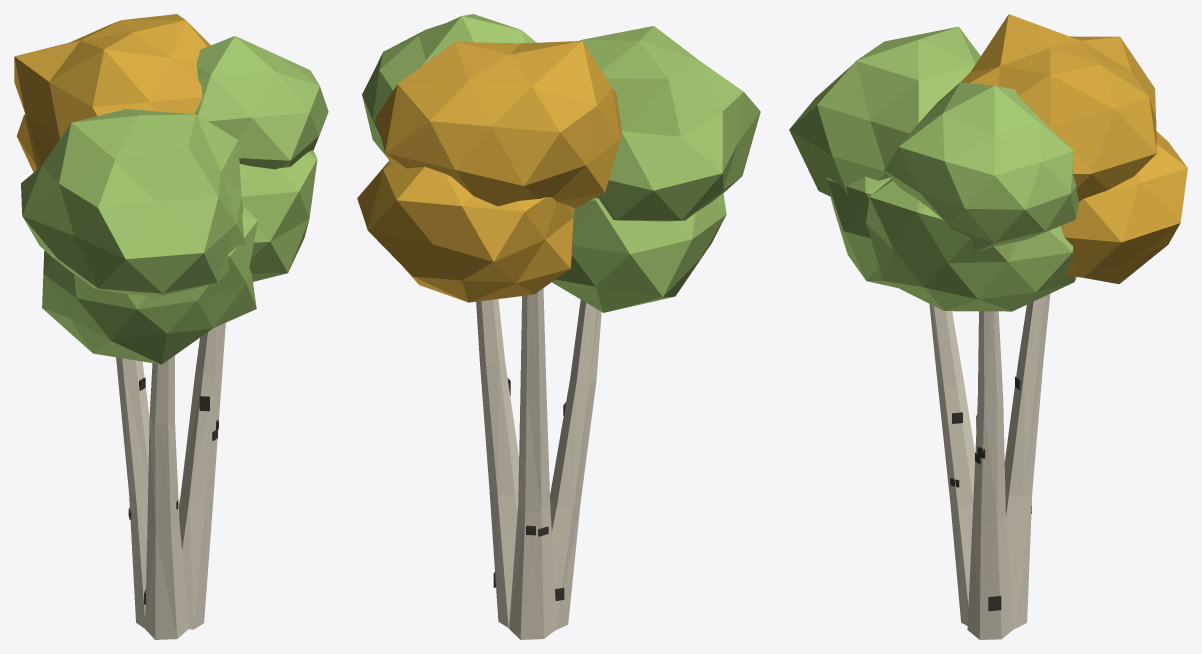
The model's file is HS_LP_Tree_PaperBirch_01.fbx.
The picture shows the model from 3 angles, left to right: view 1: azimuth 30°, elevation 25°; view 2: azimuth 150°, elevation 25°; view 3: azimuth 270°, elevation 25°; orthographic projection. The views are drawn at different scales.
Visible parts, largest first — view 1: HS_LP_Tree_PaperBirch_01; view 2: HS_LP_Tree_PaperBirch_01; view 3: HS_LP_Tree_PaperBirch_01.
Boxes of the visible parts, box(x1,y1,x2,y2) form: HS_LP_Tree_PaperBirch_01: box(14, 14, 328, 639); HS_LP_Tree_PaperBirch_01: box(357, 14, 760, 639); HS_LP_Tree_PaperBirch_01: box(789, 14, 1187, 639).
Bounding box in the file's own units: 269 × 480 × 297.
